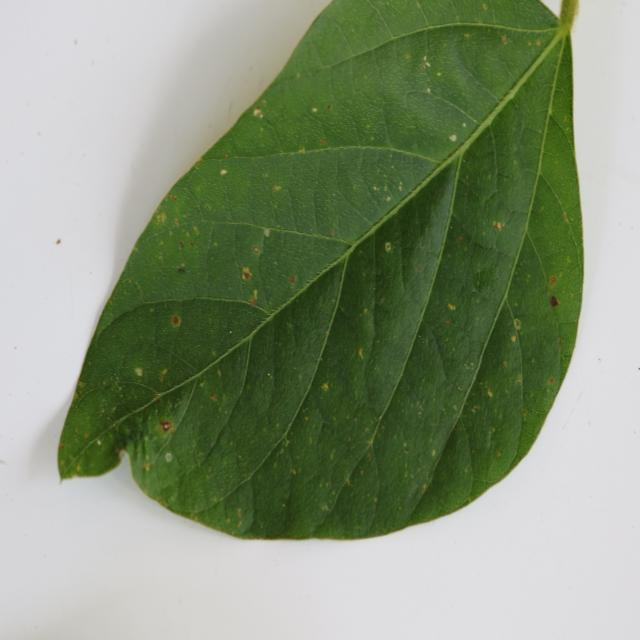Soybean: (56, 0, 586, 545)
downey_mildew: (343, 179, 451, 418), (479, 222, 570, 484), (421, 69, 497, 328), (356, 359, 468, 533), (366, 21, 495, 155), (428, 209, 517, 393), (207, 57, 339, 157), (293, 146, 422, 240), (447, 113, 532, 254), (276, 396, 360, 534), (57, 350, 142, 475), (140, 298, 265, 378), (250, 205, 345, 310), (456, 17, 550, 108), (86, 311, 171, 405), (208, 301, 260, 451), (327, 40, 399, 143), (157, 167, 232, 256), (389, 174, 448, 286), (534, 111, 582, 247), (465, 388, 527, 487), (305, 3, 405, 63), (521, 204, 571, 323), (203, 202, 264, 299), (181, 219, 347, 253), (261, 153, 328, 237), (236, 241, 303, 324), (348, 223, 380, 395), (245, 427, 294, 533), (204, 163, 283, 228), (136, 405, 189, 484), (199, 471, 256, 535)
